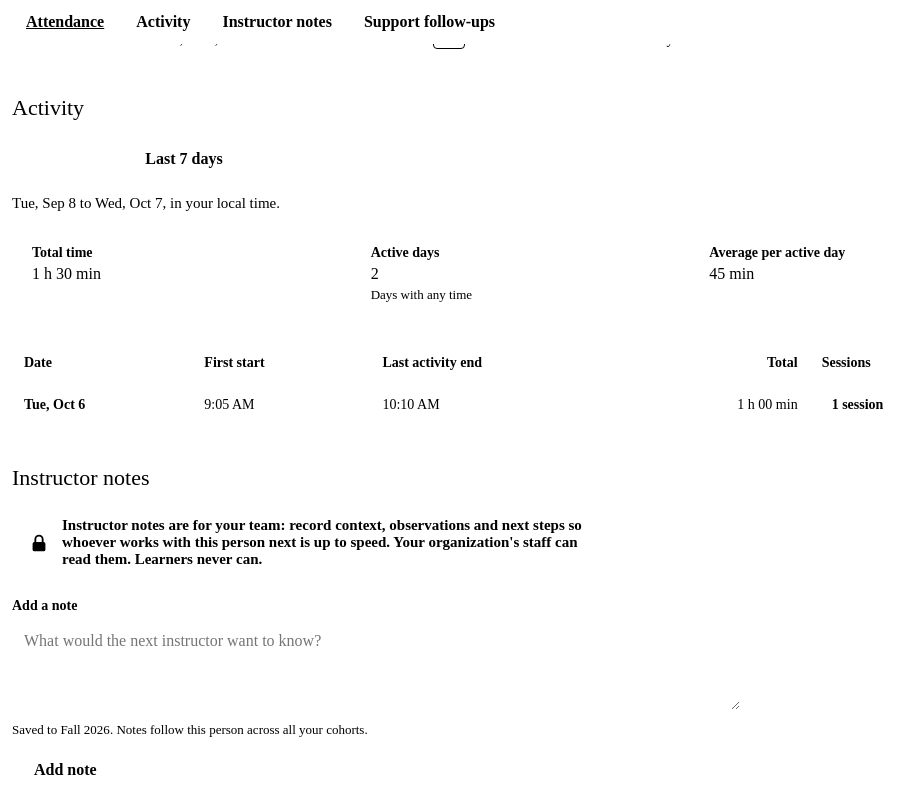
LearnerRecordPage › shows the activity cards and a daily table with expandable sessions, local time
(page scrolled)
Expected: the text "Average per active day" is shown, [709, 245, 845, 260]
Expected: the text "1 h 30 min" is shown, [32, 265, 101, 282]
Step 1. Click the button "1 session" → (857, 405), box [822, 391, 893, 419]
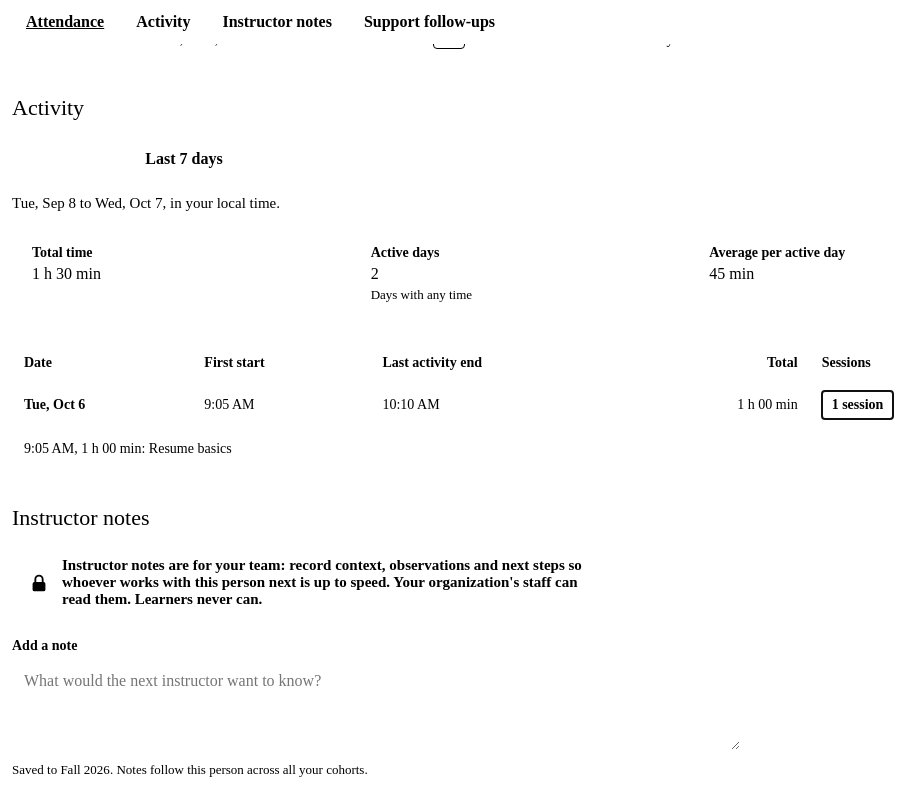
Now the list item "9:05 AM, 1 h 00 min: Resume basics" is shown, box [24, 441, 232, 456]
